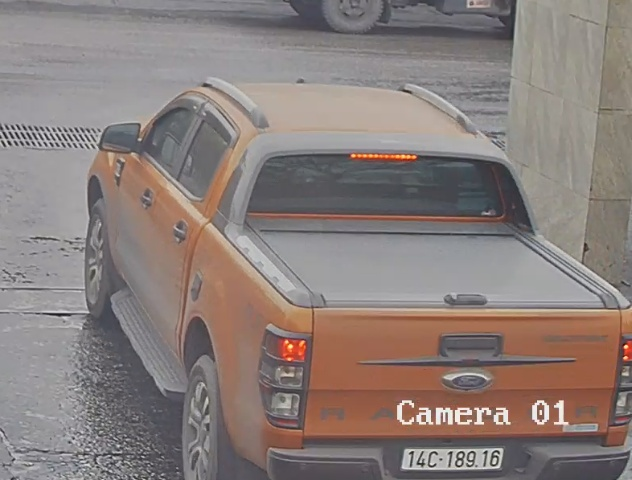vehicle plate: (398, 439, 506, 480)
